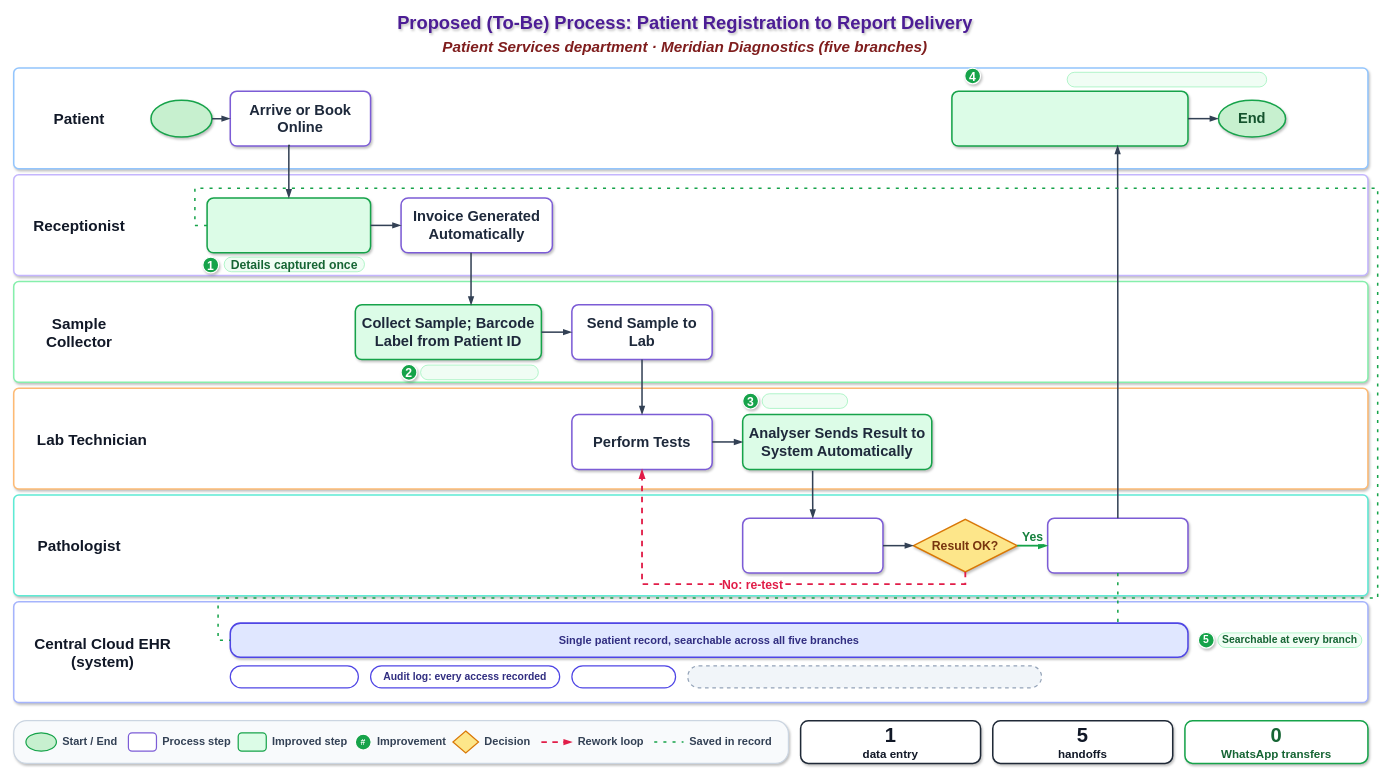
Some shapes in this 1390 by 779 pixel diagram are drawn without their labels. Here are the shapes that lost their labels. From the top down, the centre of each, then its label:
At point 1167,79: "Secure portal replaces WhatsApp".
At point 181,119: "Start".
At point 1070,119: "Log in with One-Time Password and Download Report".
At point 289,226: "Register Once: Unique Patient ID Created".
At point 479,372: "No hand-labelling".
At point 805,400: "No re-typing".
At point 813,546: "Review & E-sign in System".
At point 1118,546: "Release Report to Portal".
At point 294,676: "Role-based access".
At point 623,676: "Daily backup".
At point 864,676: "Retired: Excel sheets, paper registers, WhatsApp report sharing".
